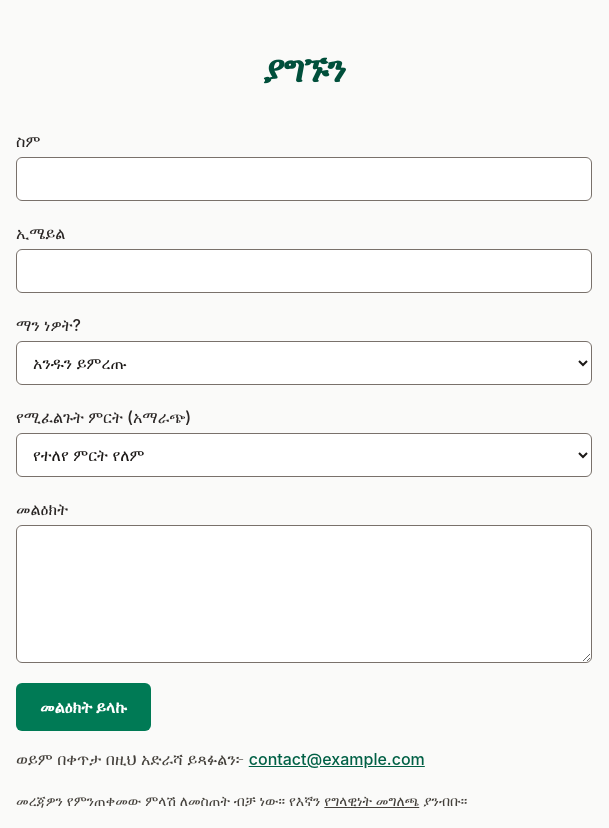
Test: ContactSection › in other languages › shows the success and failure messages in am
Type "Test Visitor" into the field with id "contact-name". click: (304, 179)
box: [16,157,592,201]
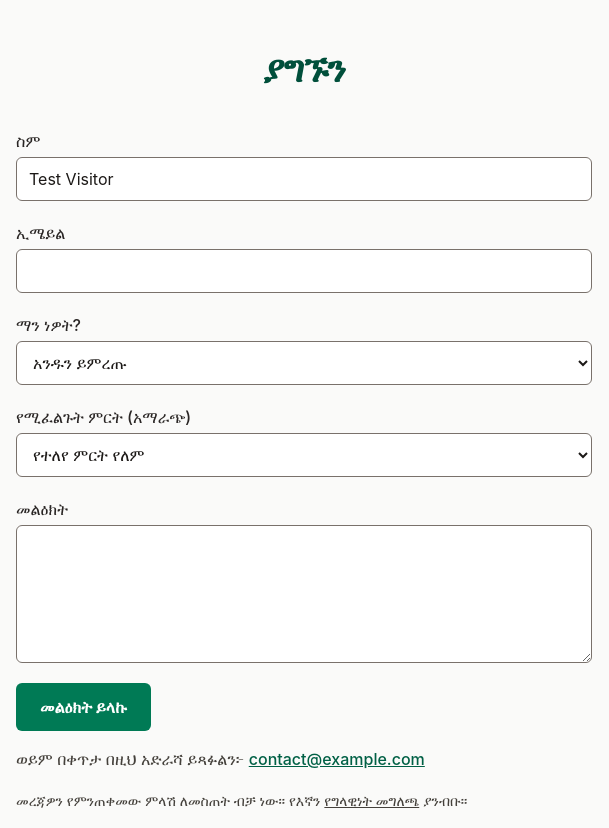
Type "visitor@example.com" into the field with id "contact-email". click: (304, 271)
box: [16,249,592,293]
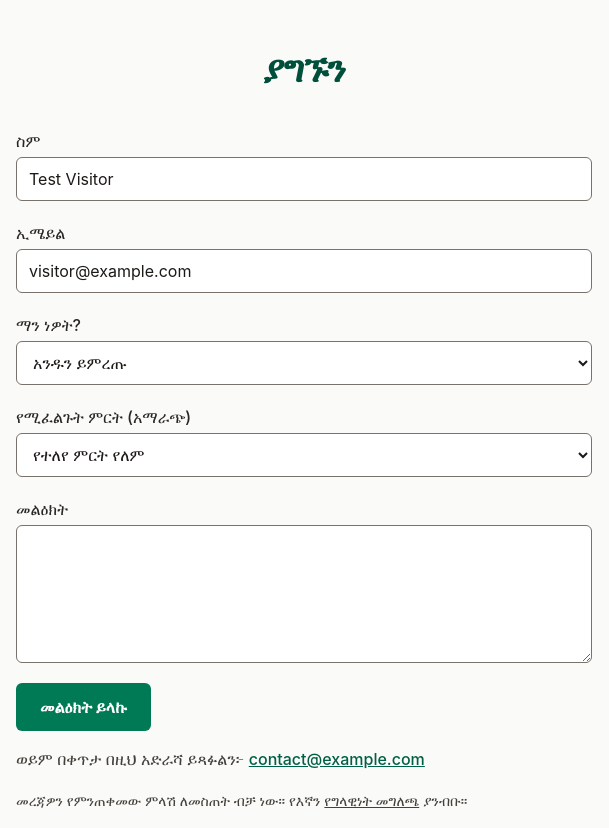
Select "አርክቴክት" in the dropdown with id "contact-visitor-type". click: (304, 363)
box: [16,341,592,385]
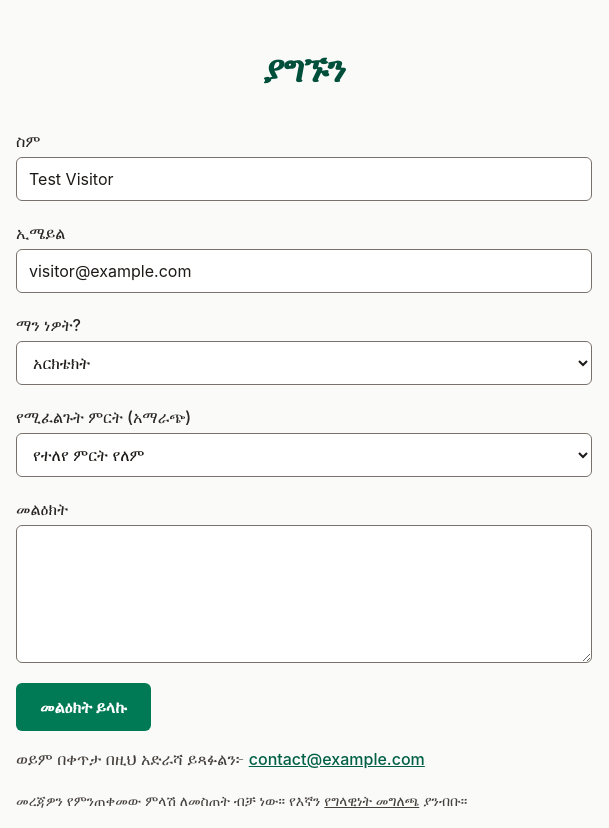
Type "Test message." into the text box with id "contact-message". click: (304, 594)
box: [16,525,592,663]
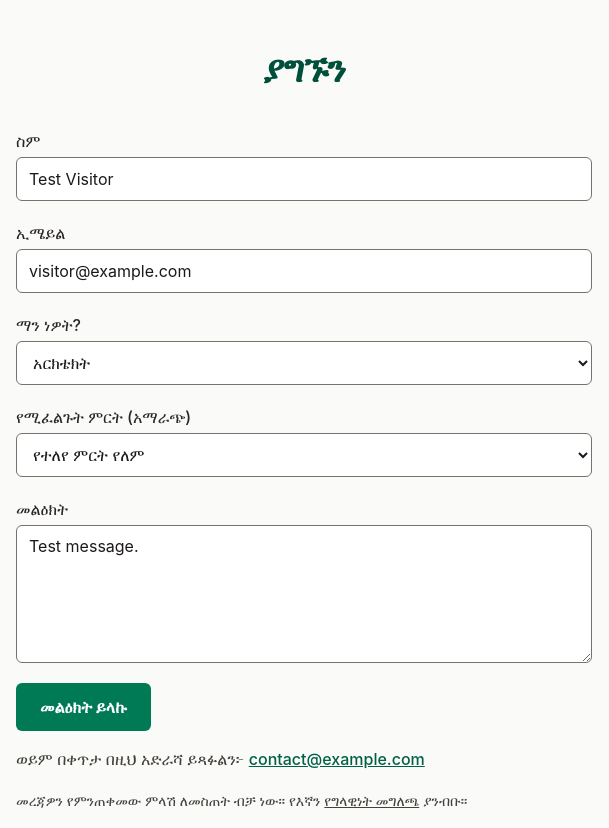
Submit the form
(page scrolled)
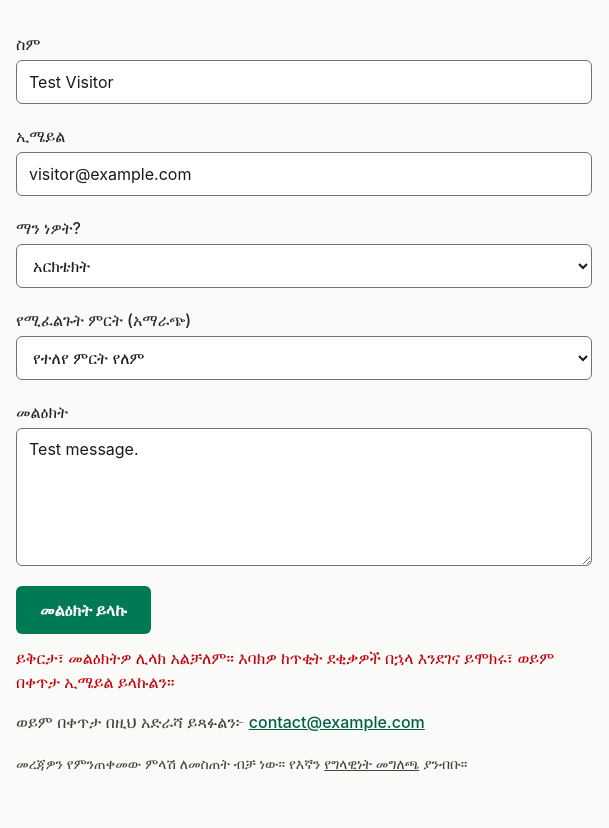
Submit the form
(page scrolled)
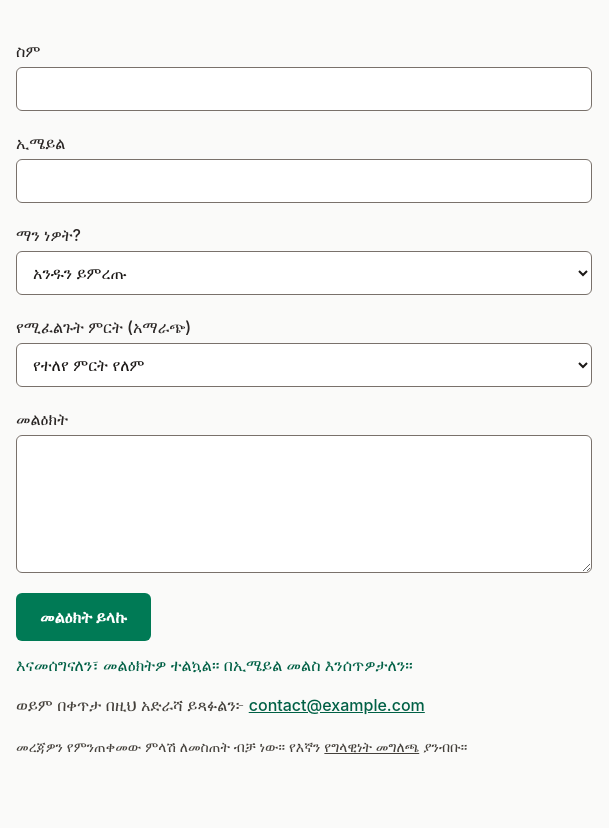
Now the text "እናመሰግናለን፣ መልዕክትዎ ተልኳል። በኢሜይል መልስ እንሰጥዎታለን።" is shown, box [16,655,413,675]
